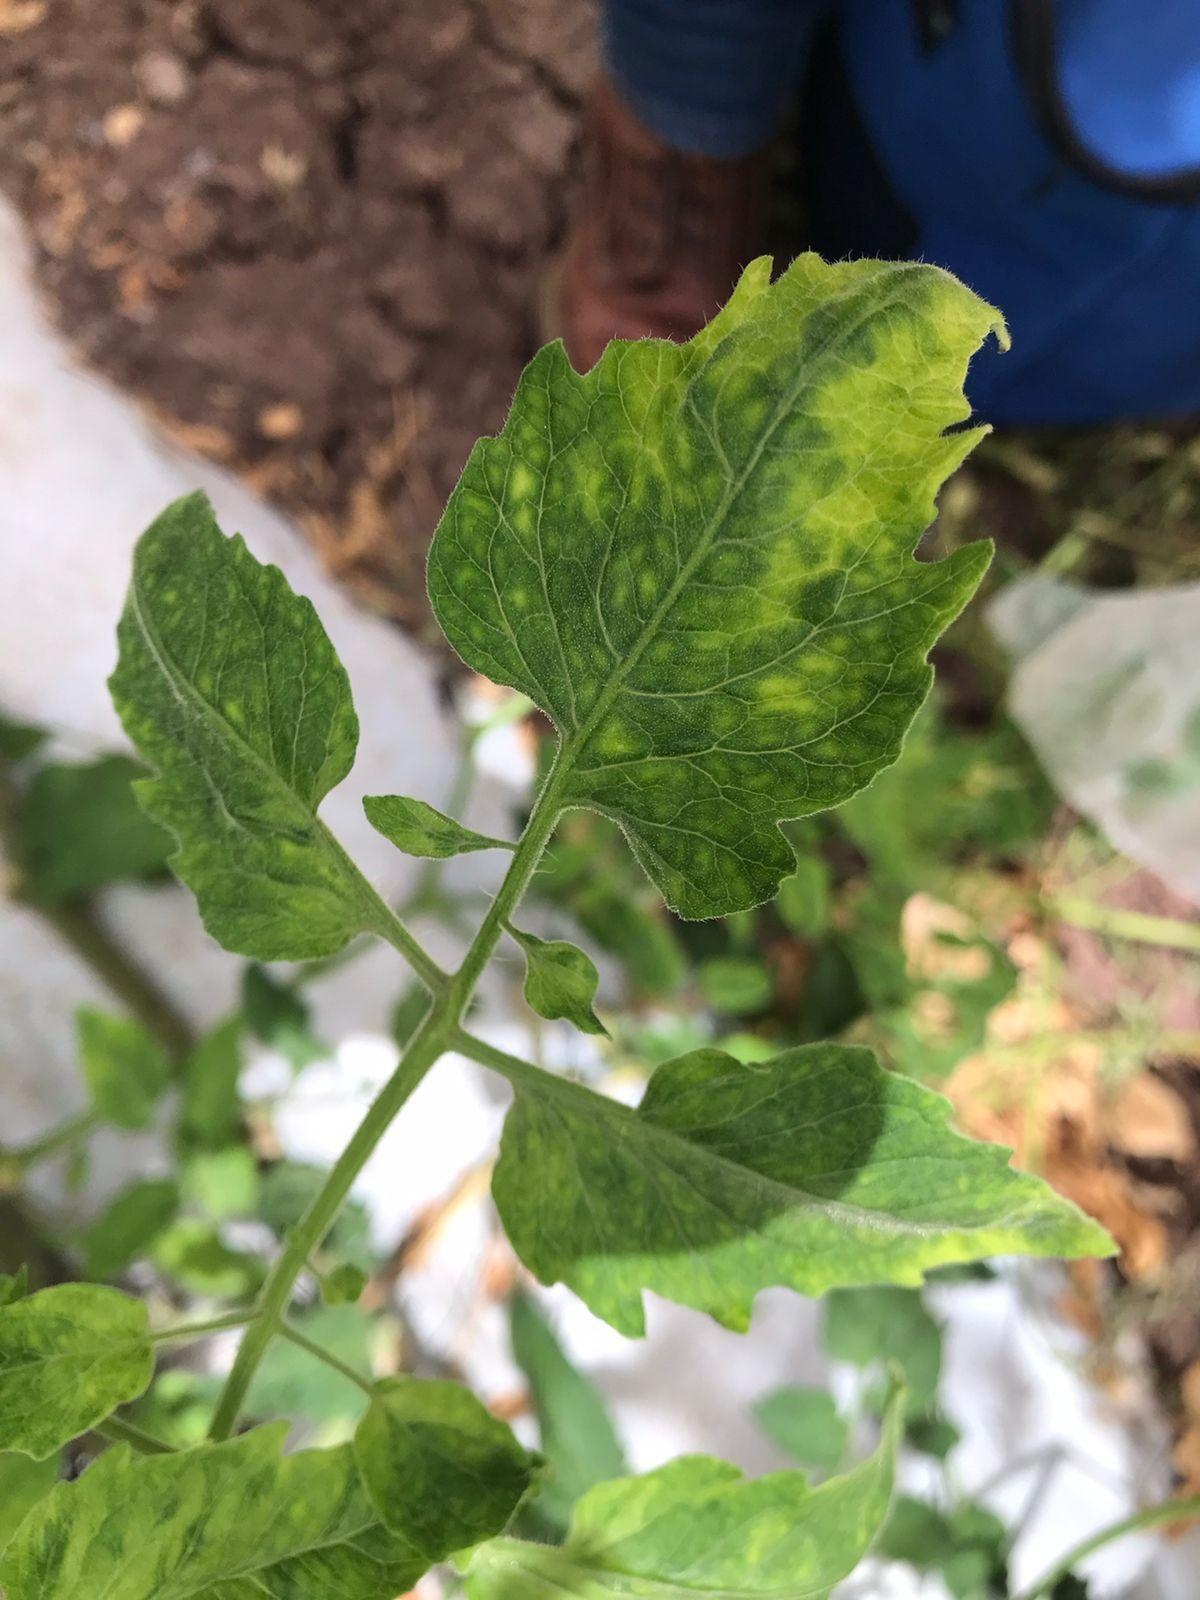Hoja rugoso: (428, 256, 1000, 919), (446, 1032, 1113, 1339), (109, 494, 391, 959), (466, 1400, 900, 1600), (3, 1425, 428, 1600), (506, 925, 606, 1034), (362, 794, 516, 859)
Pedunculo rugoso: (212, 728, 569, 1438)
